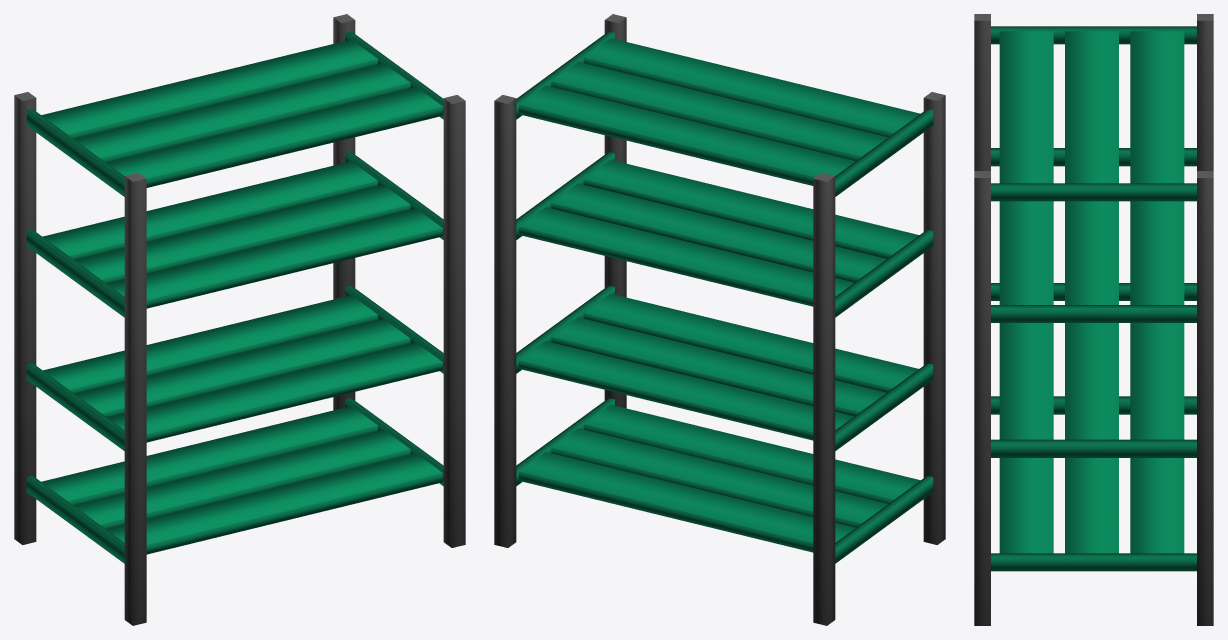
File: EstanteLab.fbx
3 renders of one model, left to right at view 1: azimuth 30°, elevation 25°; view 2: azimuth 150°, elevation 25°; view 3: azimuth 270°, elevation 25°, orthographic.
Visible parts, largest first — view 1: EstanteLab; view 2: EstanteLab; view 3: EstanteLab.
Boxes of the visible parts, bbox=[...] form: EstanteLab: bbox=[14, 14, 465, 625]; EstanteLab: bbox=[494, 14, 945, 625]; EstanteLab: bbox=[974, 14, 1213, 625].
Size of the model in its own units: 97.38 by 124 by 60.13.
